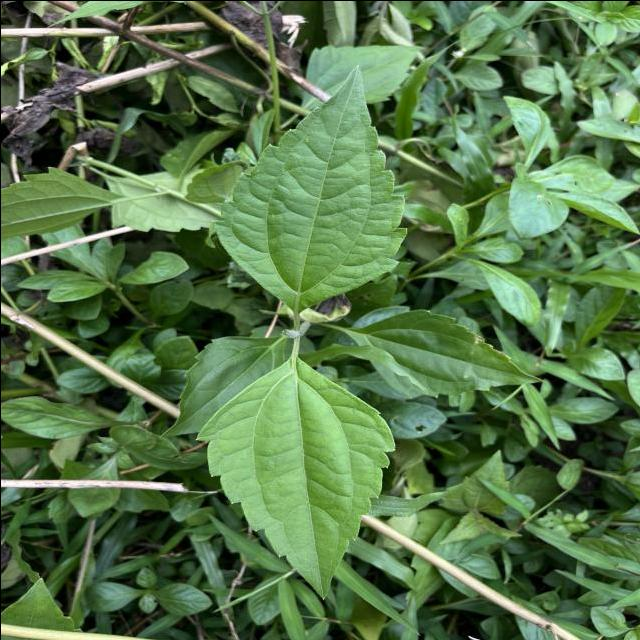Chromolaena odorata: (190, 352, 398, 604), (208, 58, 410, 316)
